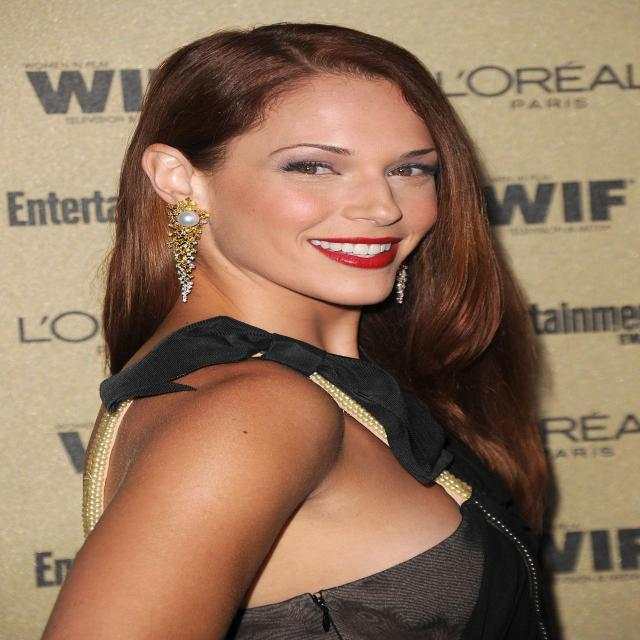no-earmuff: (130, 131, 240, 228)
